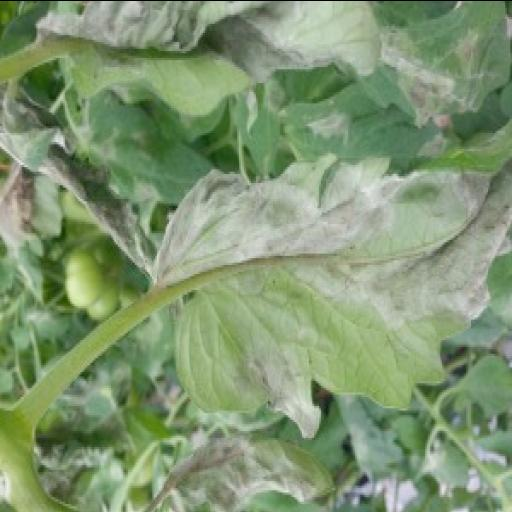disease_tomato: (152, 151, 512, 436)
